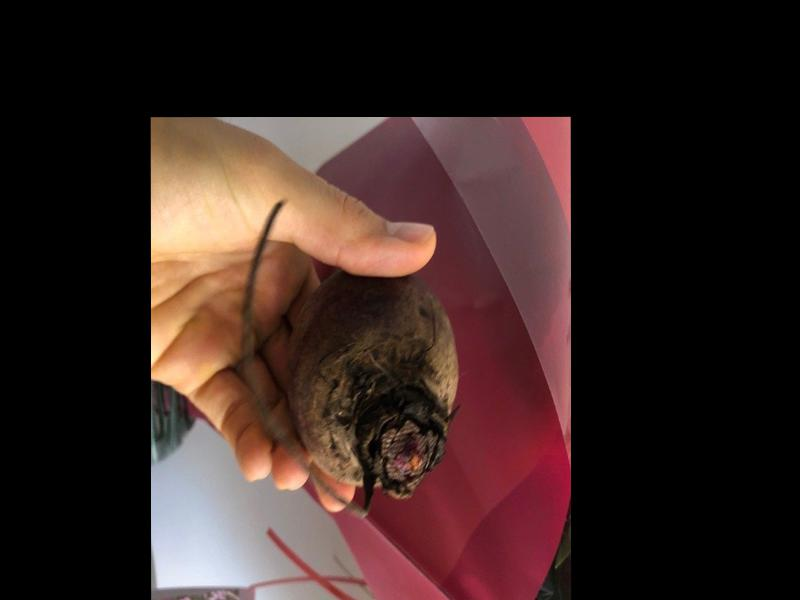Beet: (243, 199, 458, 520)
